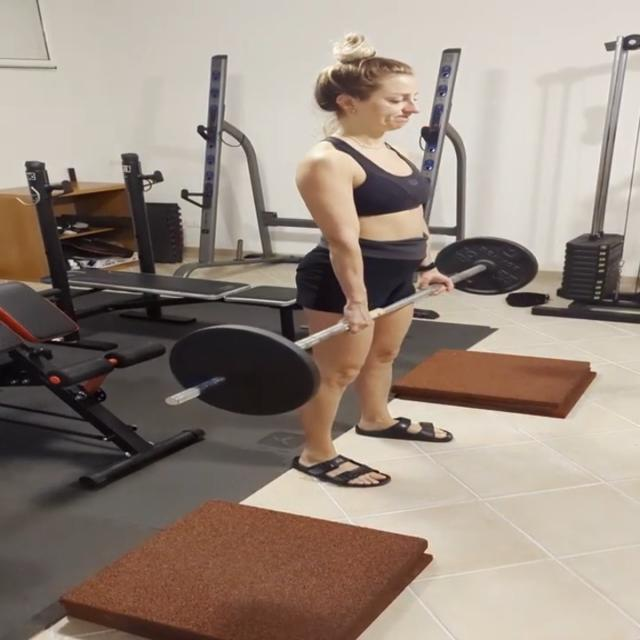barbell: (150, 323, 322, 421)
